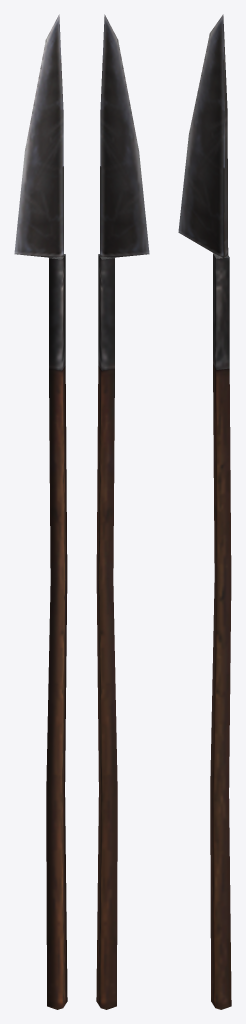
Rendered from Polearm02.FBX.
3 renders of one model, left to right at view 1: azimuth 30°, elevation 25°; view 2: azimuth 150°, elevation 25°; view 3: azimuth 330°, elevation 25°, orthographic.
Parts seen in each view (by area): view 1: Polearm02; view 2: Polearm02; view 3: Polearm02.
Boxes of the visible parts, <box> form: Polearm02: <box>14,14,67,1009</box>; Polearm02: <box>96,14,149,1009</box>; Polearm02: <box>178,14,231,1009</box>.
Bounding box in the file's own units: 12.33 × 221 × 4.75.
